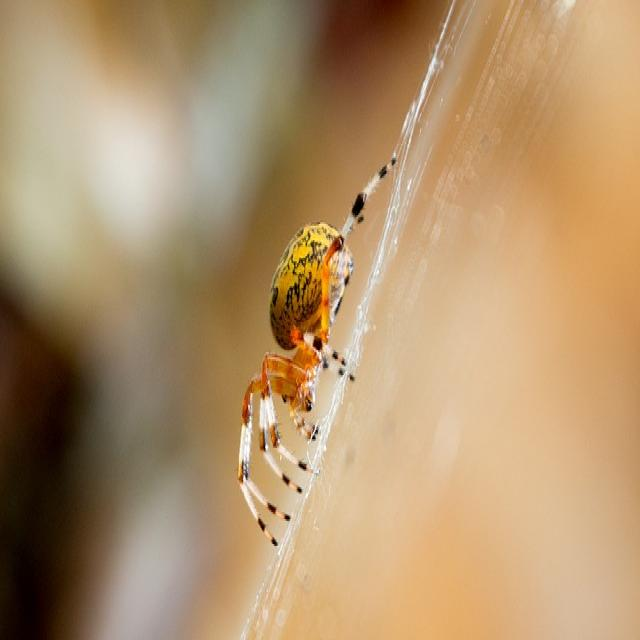spyder: (269, 171, 387, 354), (238, 354, 321, 539)
